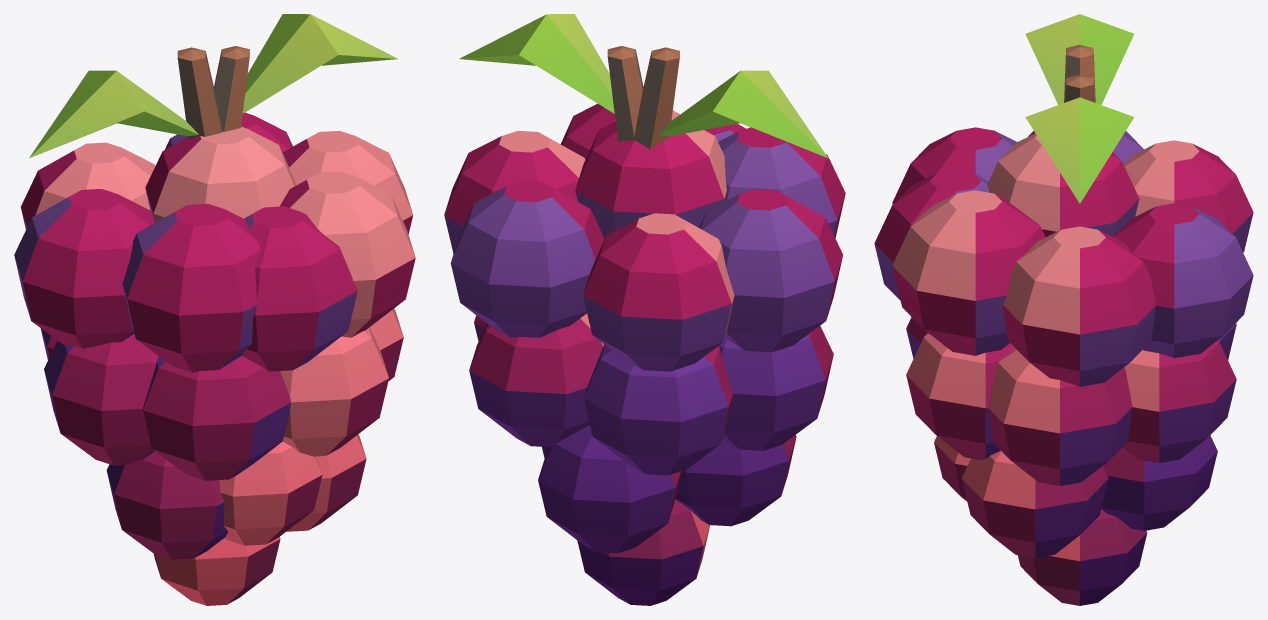
File: food_grapes_bunch.glb
3 views of the same model, side by side, from view 1: azimuth 30°, elevation 25°; view 2: azimuth 150°, elevation 25°; view 3: azimuth 270°, elevation 25° (orthographic). The views are drawn at different scales.
Visible parts, largest first — view 1: model; view 2: model; view 3: model.
Boxes of the visible parts, <box> form: model: <box>14,14,415,605</box>; model: <box>444,14,845,605</box>; model: <box>874,14,1253,605</box>.
Bounding box in the file's own units: 0.434 × 0.6046 × 0.382.
Materials: 1 (1 with a texture image).
